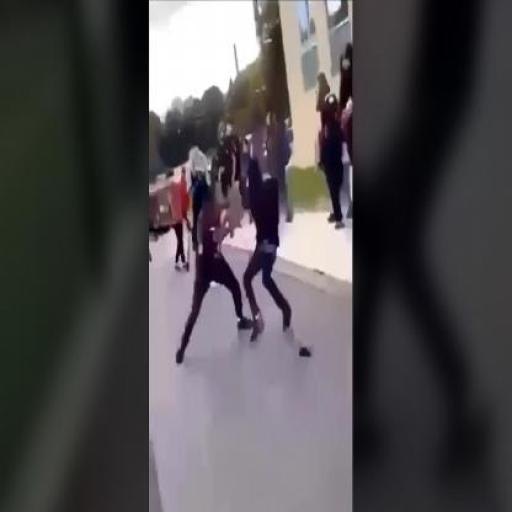Fighting: (177, 132, 296, 372)
